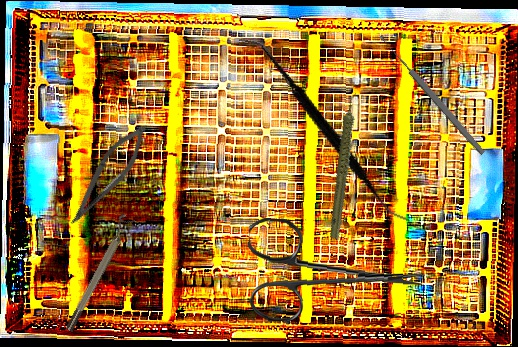Fixation Ring: (59, 212, 136, 334)
Handpiece: (300, 91, 391, 241)
Iris Scissors: (244, 217, 428, 329)
Micro Scissor: (62, 117, 155, 235)
Spatula Surgical: (199, 34, 449, 225)
Surgical Spoon: (377, 32, 487, 157)
